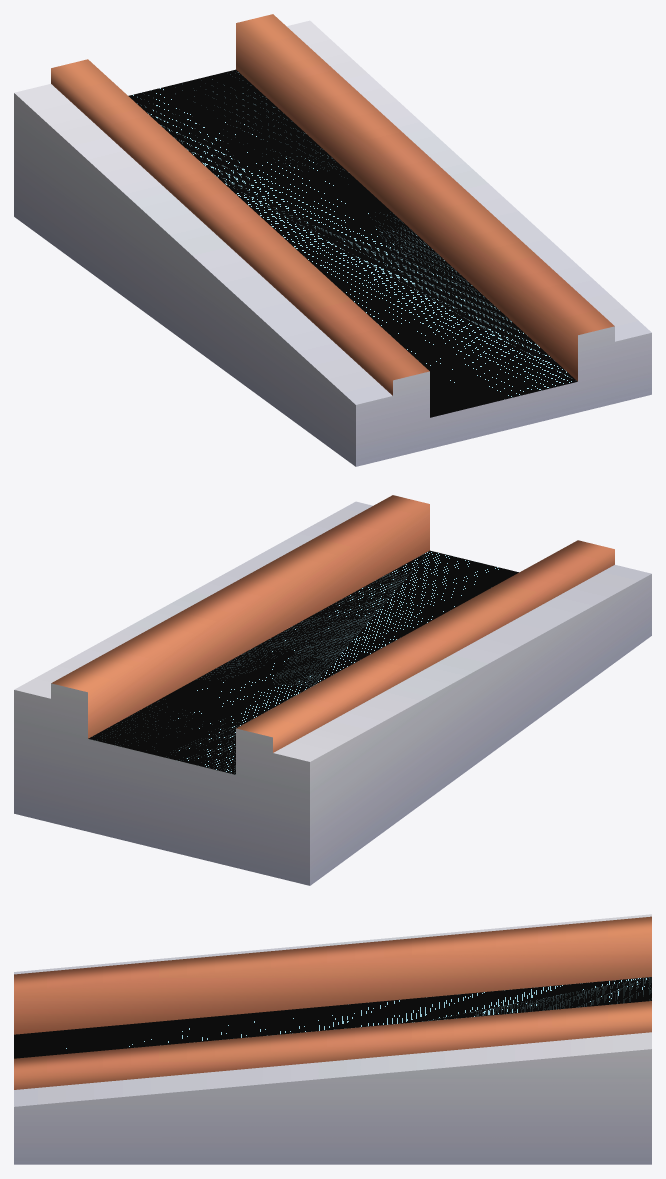
File: kenney-tower-defense-snow-tile-river-slope-large.glb
3 views of the same model, one above another, from view 1: azimuth 30°, elevation 25°; view 2: azimuth 150°, elevation 25°; view 3: azimuth 270°, elevation 25° (orthographic). The views are drawn at different scales.
Visible parts, largest first — view 1: snow-tile-river-slope-large; view 2: snow-tile-river-slope-large; view 3: snow-tile-river-slope-large.
Part boxes in pixels (x1=…): snow-tile-river-slope-large: x1=14, y1=14, x2=651, y2=466; snow-tile-river-slope-large: x1=14, y1=495, x2=651, y2=885; snow-tile-river-slope-large: x1=14, y1=914, x2=651, y2=1164.
Size of the model in its own units: 1 by 0.45 by 2.
1 material, 1 textured.
